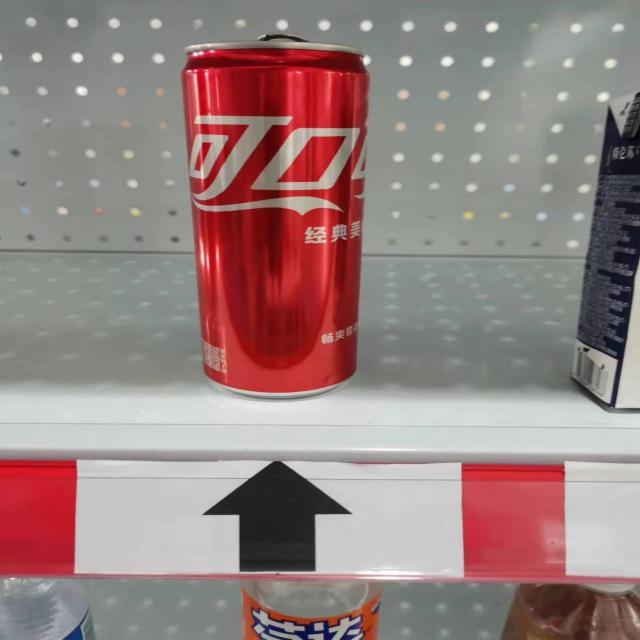coca_cola: (185, 40, 369, 395)
